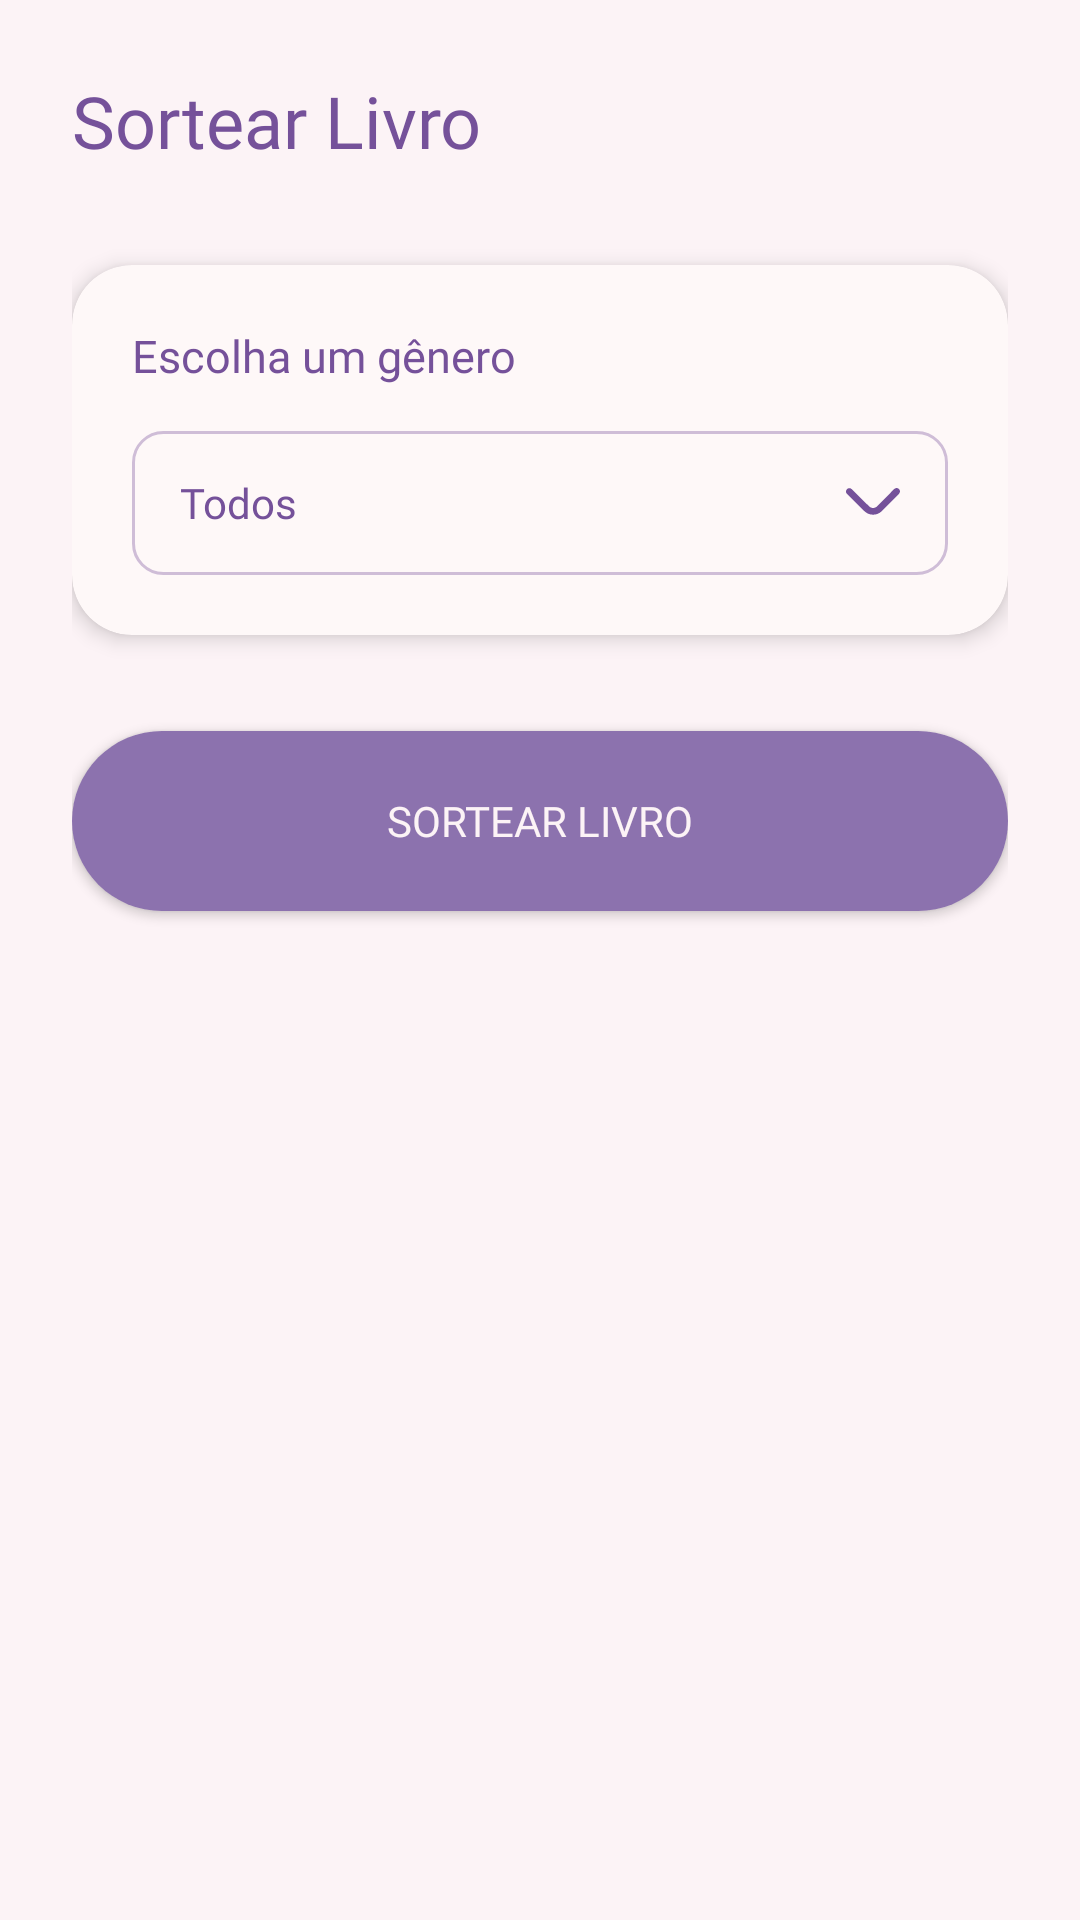

Icons on this 1080×1920 Android screen, each with its box as (x1, y1, x2, y2):
expand more: (846, 488, 900, 515)
